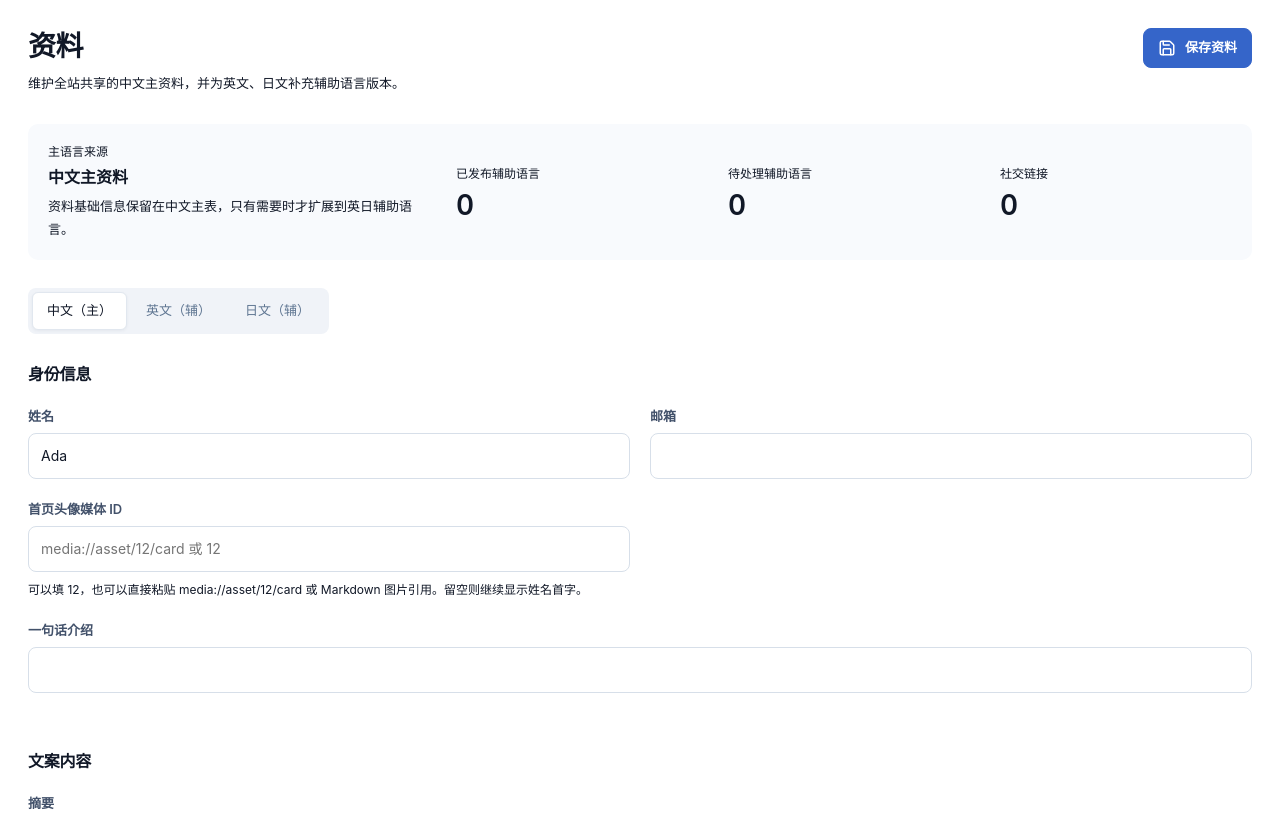
Scenario: ProfilePage › sends If-Match and shows stale conflict
Check: the field showing "Ada" is shown, box [28,433,630,479]
Click the button "保存资料" at (1198, 48), box [1143,28,1252,68]
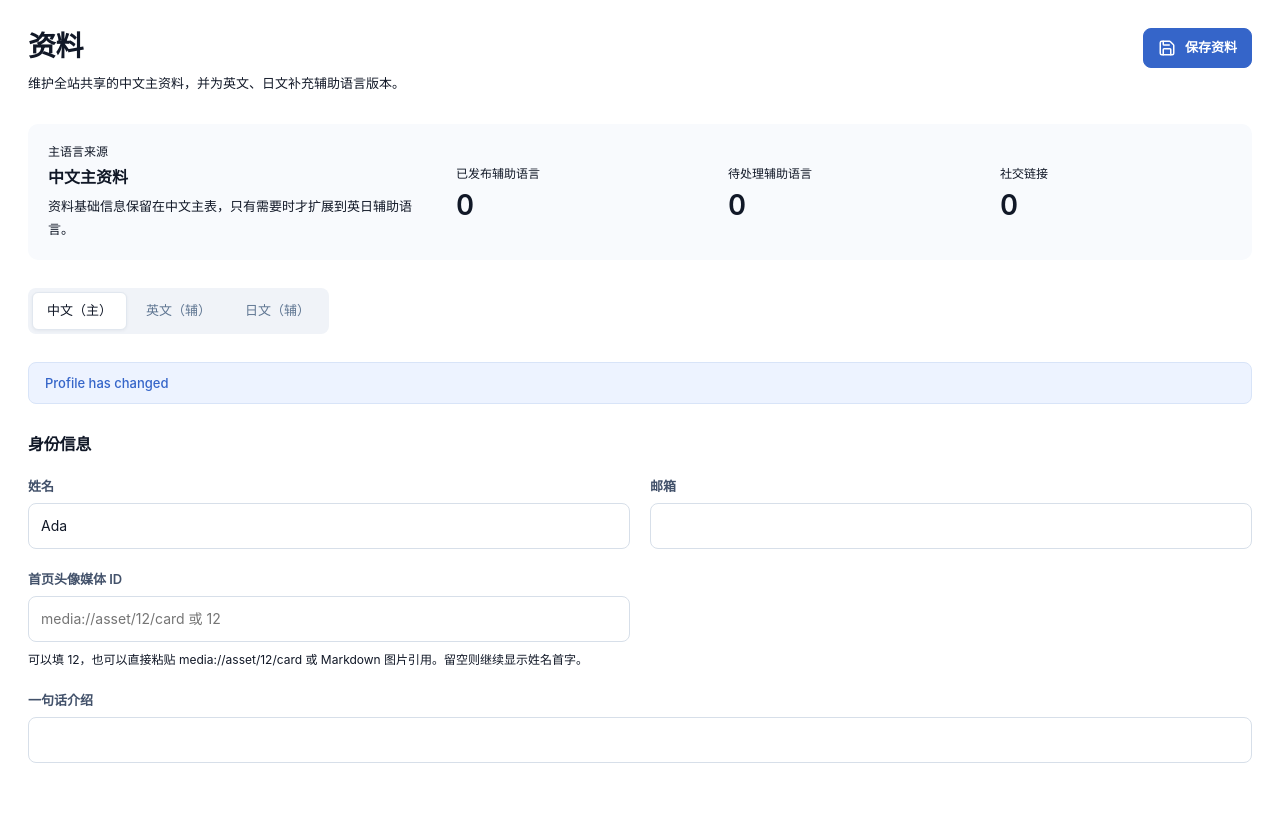
Check: the text "Profile has changed" is shown, box [28,362,1252,404]
